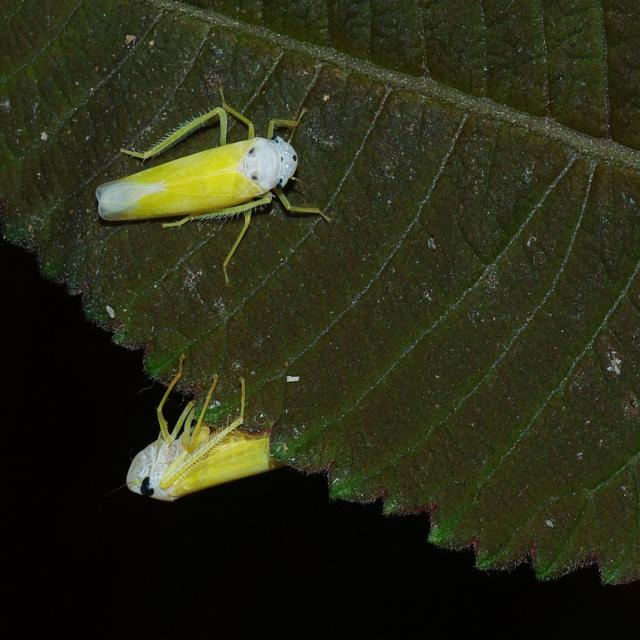Yechan: (90, 83, 328, 285), (115, 396, 309, 508)
